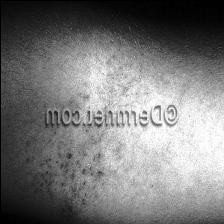Non-Cancerous Skin Condition: (22, 132, 132, 212)
